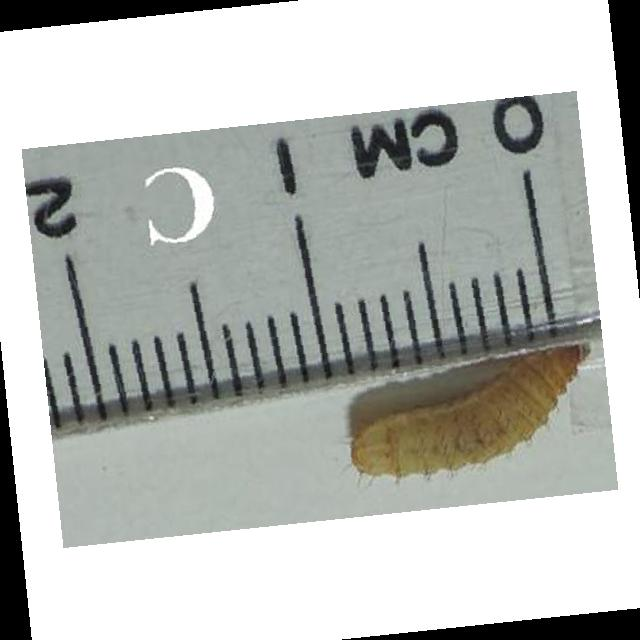Maggot: (355, 338, 589, 484)
